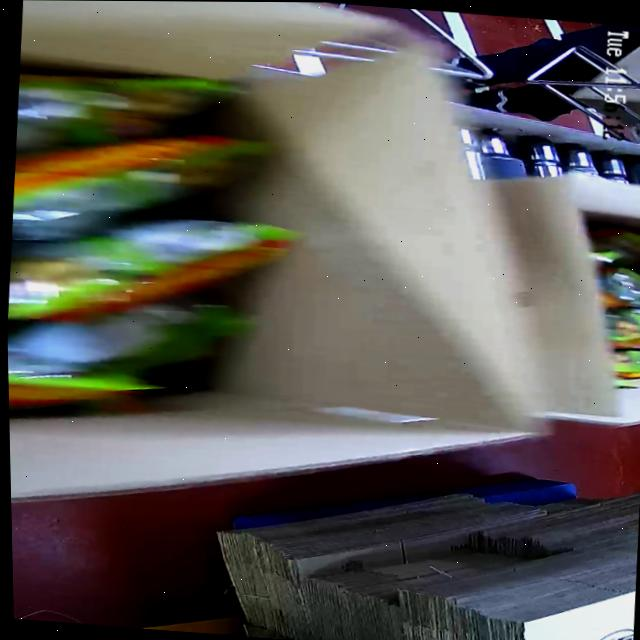YOGURT_HERB: (1, 62, 278, 438)
